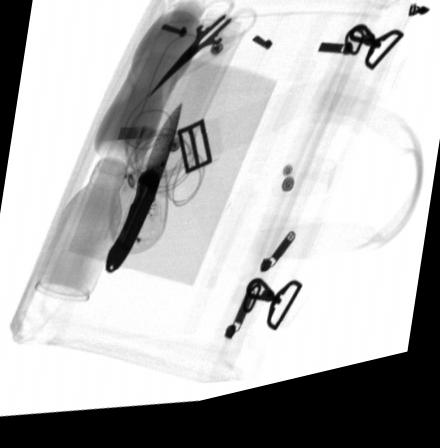Knife: (104, 110, 182, 276)
Scissors: (148, 8, 256, 106)
